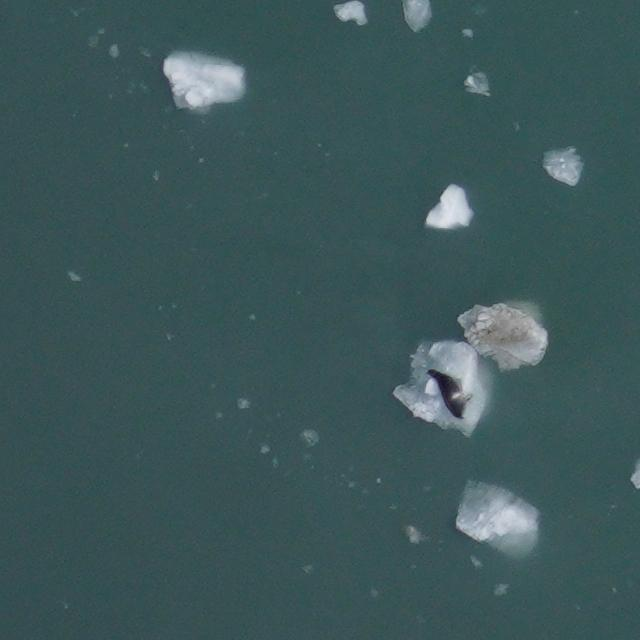seal: (423, 366, 478, 422)
